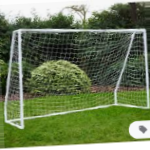goals: (3, 26, 150, 131)
